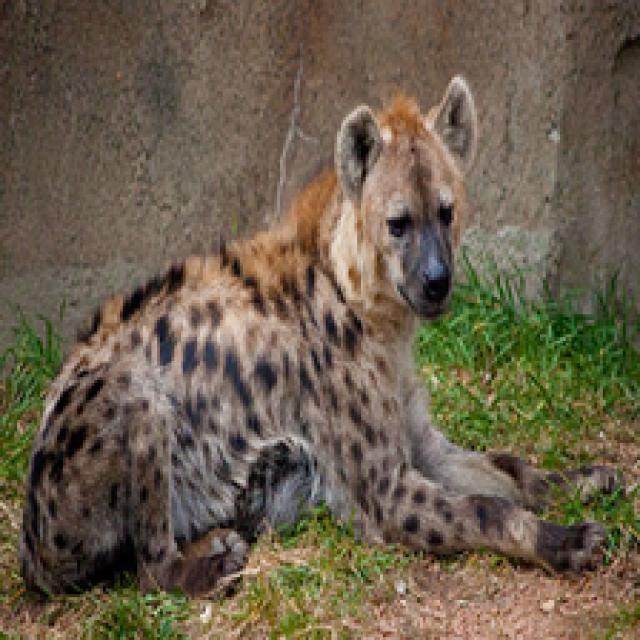hyena: (17, 70, 620, 597)
